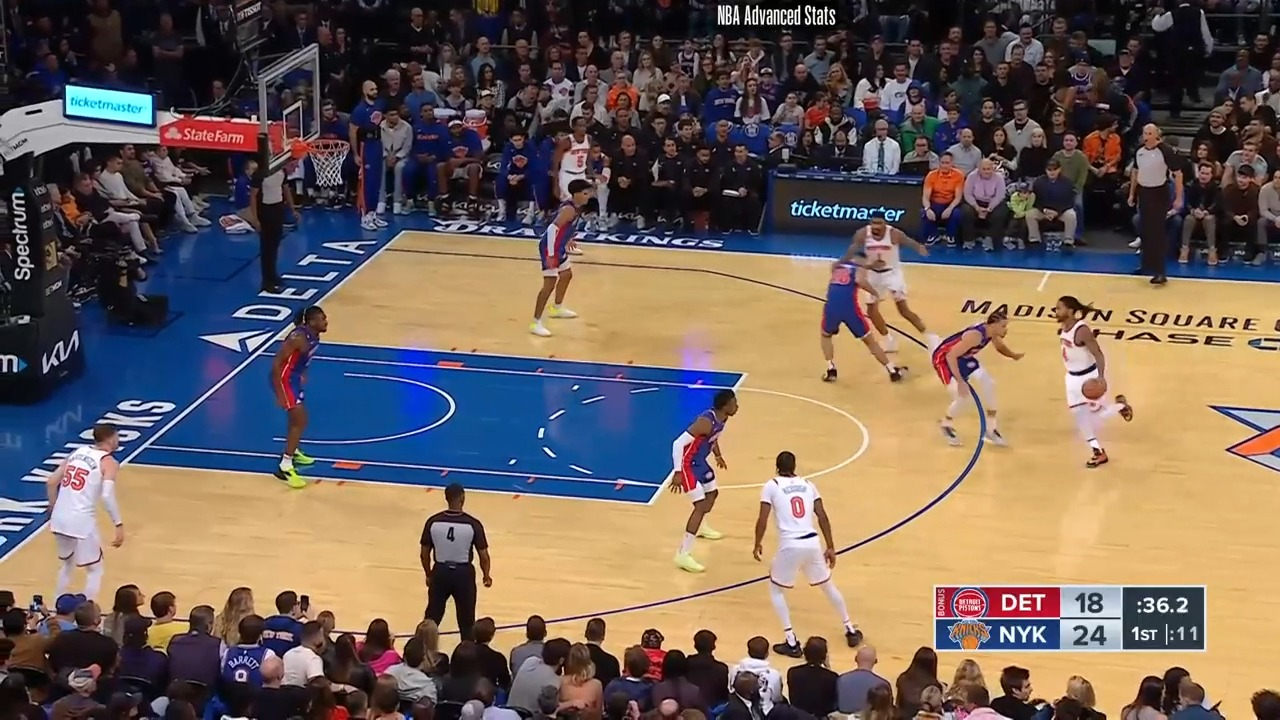net: (286, 130, 352, 185)
player: (754, 449, 862, 656), (37, 418, 125, 617), (672, 387, 753, 577), (929, 307, 1028, 456), (1056, 296, 1136, 476), (267, 304, 340, 491), (821, 232, 904, 384), (848, 211, 935, 351), (535, 188, 599, 340)
referee: (414, 485, 495, 641), (1125, 120, 1187, 291), (251, 159, 300, 300)
